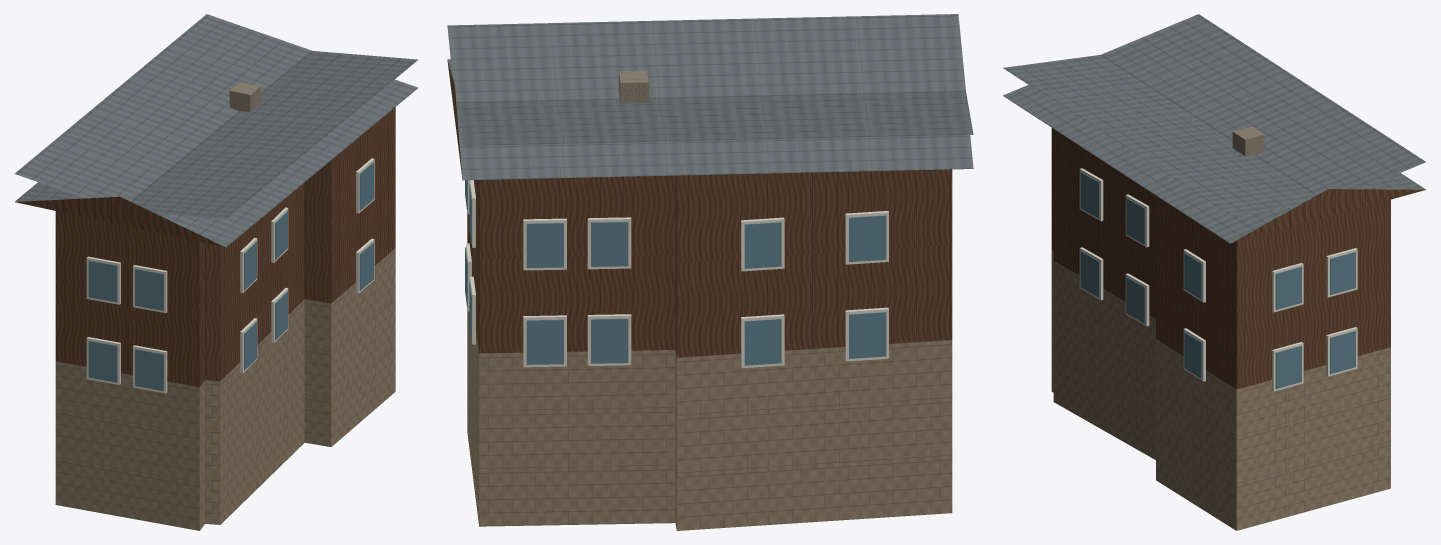
File: core_0005.gltf
3 views of the same model, side by side, from view 1: azimuth 30°, elevation 25°; view 2: azimuth 150°, elevation 25°; view 3: azimuth 270°, elevation 25° (orthographic). The views are drawn at different scales.
Parts seen in each view (by area): view 1: core_0005; view 2: core_0005; view 3: core_0005.
Boxes of the visible parts, x1,y1,x2,y2 form: core_0005: (14,14,418,530); core_0005: (447,14,973,530); core_0005: (1003,14,1425,530).
Size of the model in its own units: 15.62 by 11.85 by 13.86.
Materials: 6 (6 with a texture image).
